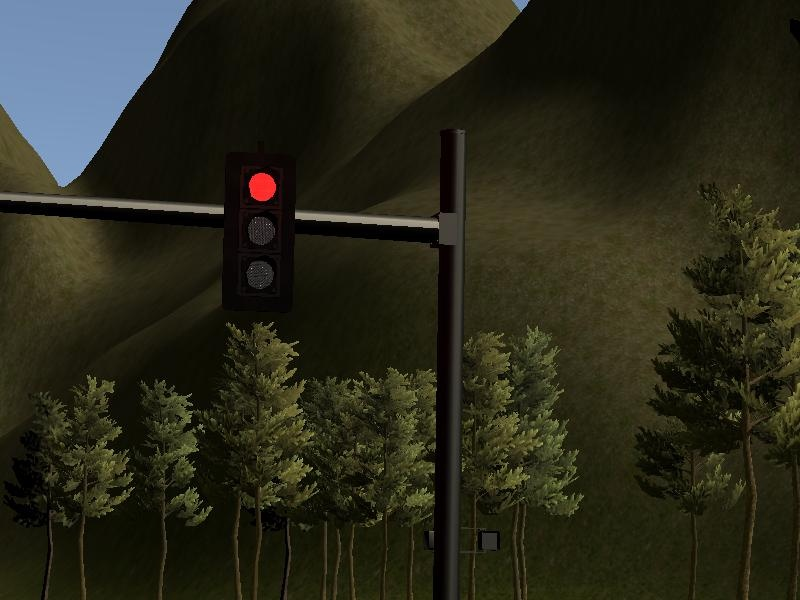RED: (222, 154, 296, 311)
